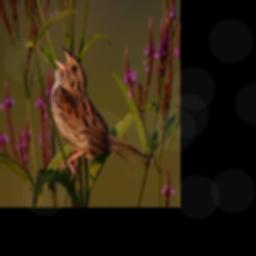Sparrow: (49, 45, 151, 183)
